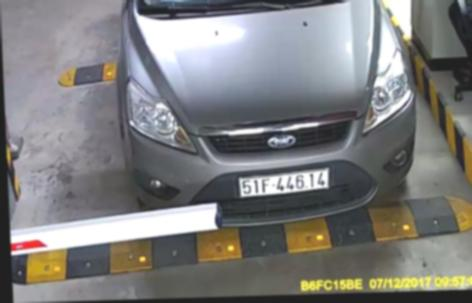License_Plate: (234, 166, 335, 197)
